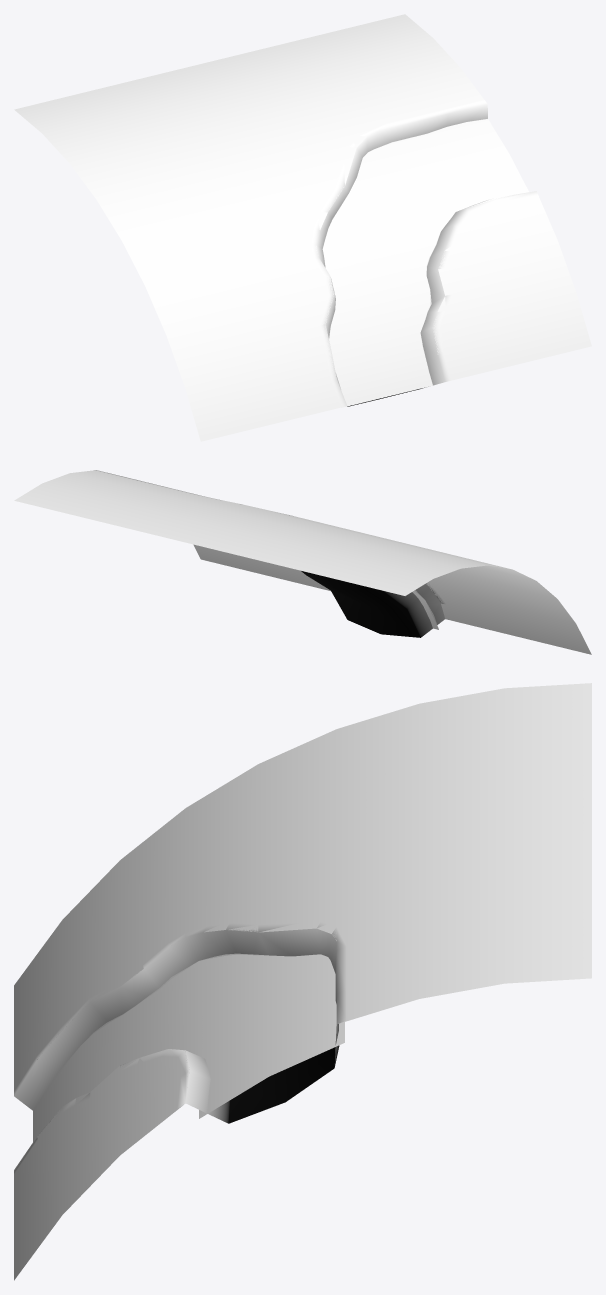
The model's file is grd_Rws_2.dae.
3 renders of one model, top to bottom at view 1: azimuth 30°, elevation 25°; view 2: azimuth 150°, elevation 25°; view 3: azimuth 270°, elevation 25°, orthographic. The views are drawn at different scales.
Parts seen in each view (by area): view 1: grd_Rws_2; view 2: grd_Rws_2; view 3: grd_Rws_2.
Part boxes in pixels (<box>): grd_Rws_2: <box>14,14,591,441</box>; grd_Rws_2: <box>14,470,591,654</box>; grd_Rws_2: <box>14,683,591,1280</box>.
Size of the model in its own units: 512 by 264 by 423.
4 materials, 1 textured.
